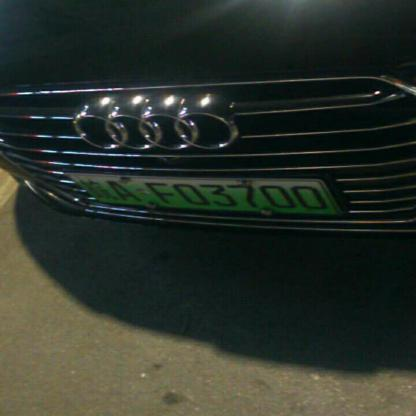lp: (68, 174, 340, 214)
